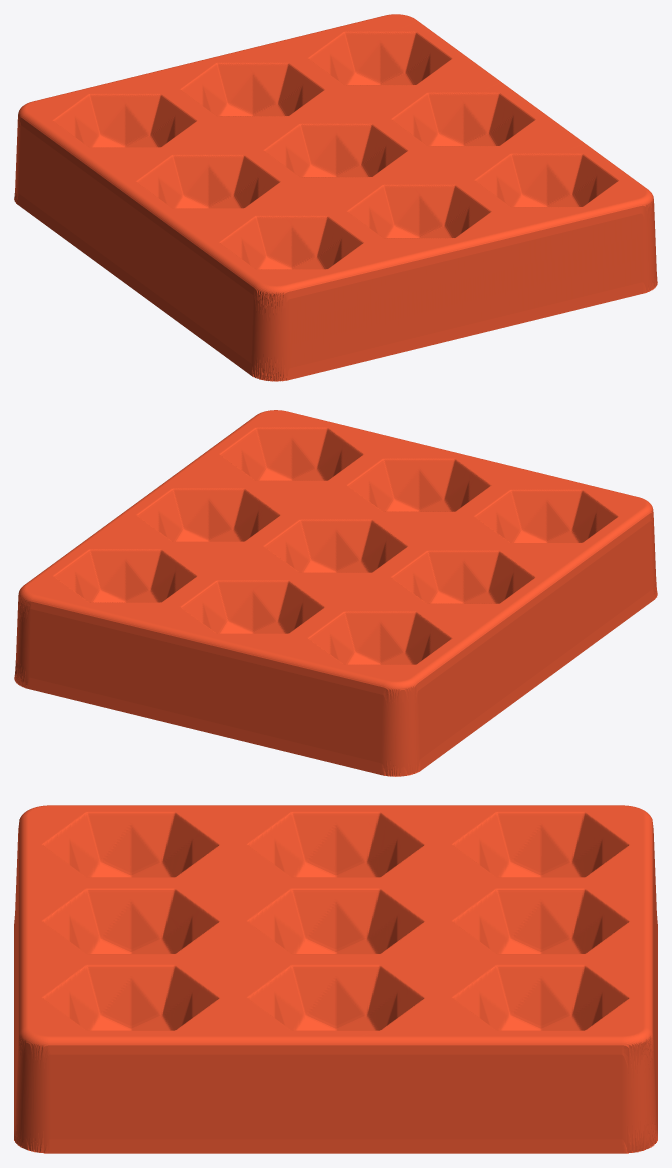
The model's file is mold.glb.
3 renders of one model, top to bottom at view 1: azimuth 30°, elevation 25°; view 2: azimuth 150°, elevation 25°; view 3: azimuth 270°, elevation 25°, orthographic. The views are drawn at different scales.
Parts seen in each view (by area): view 1: geometry_0; view 2: geometry_0; view 3: geometry_0.
Boxes of the visible parts, x1,y1,x2,y2 form: geometry_0: (14, 14, 657, 381); geometry_0: (14, 410, 657, 776); geometry_0: (14, 805, 657, 1153).
Bounding box in the file's own units: 0.1442 × 0.0309 × 0.1621.
